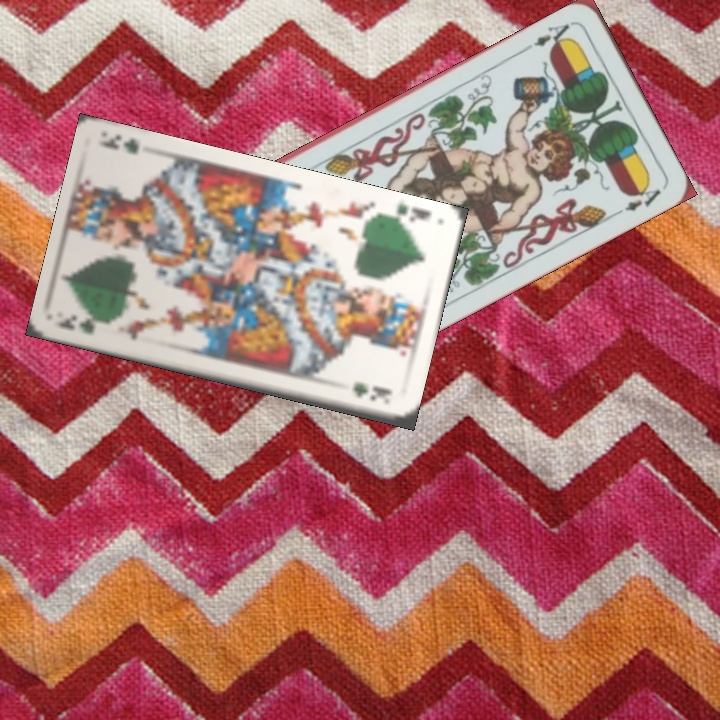EA: (529, 17, 576, 53)
GK: (379, 199, 435, 228), (53, 311, 113, 336)
